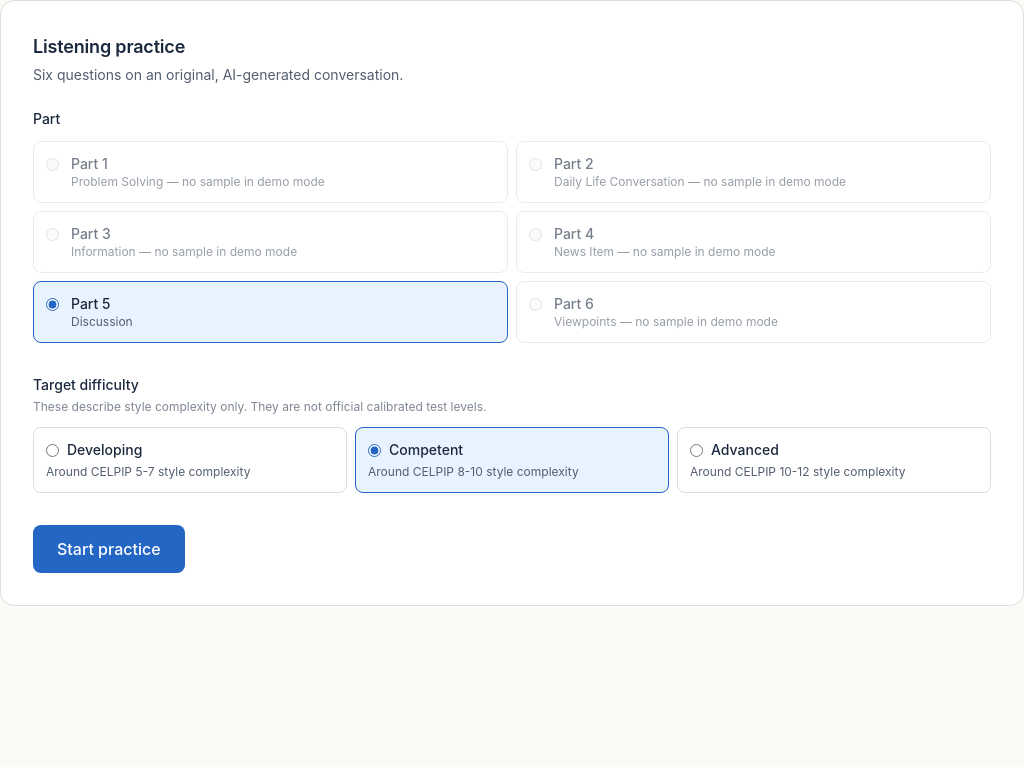
Scenario: ListeningPage › shows a stage label rather than a fake percentage while generating
The width and height of the screenshot is (1024, 767).
Click the button "Start practice". click: x=109, y=549
box: 33,525 -> 185,573
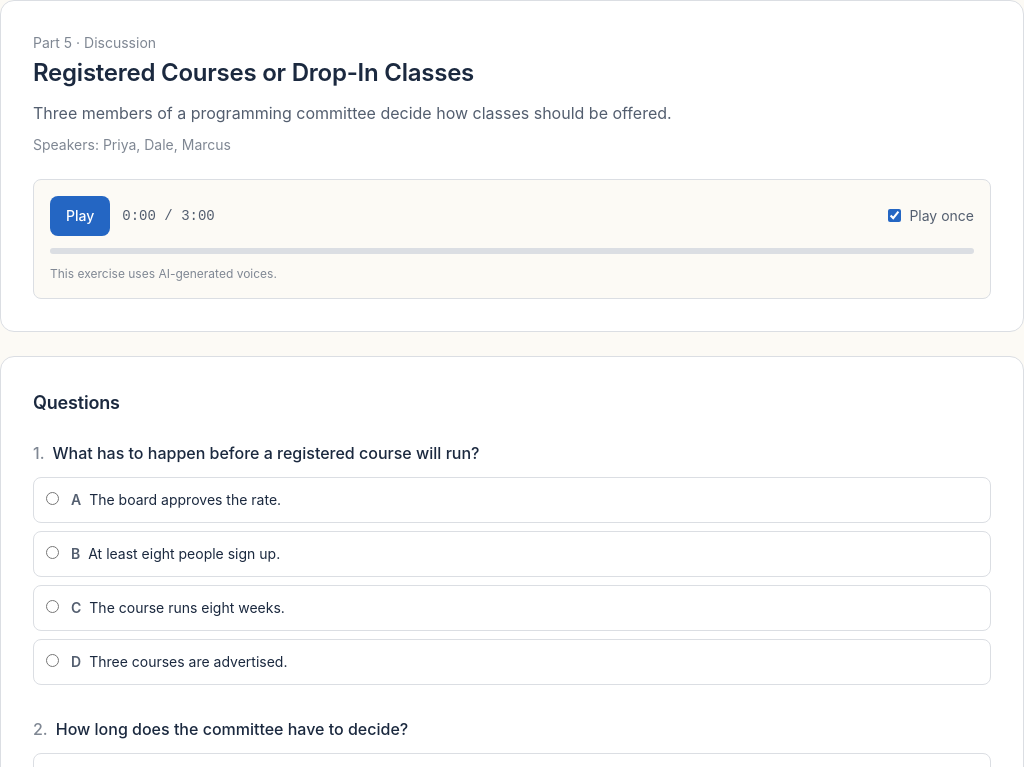
Result: the heading "Registered Courses or Drop-In Classes" is shown at 33,58 -> 474,87
